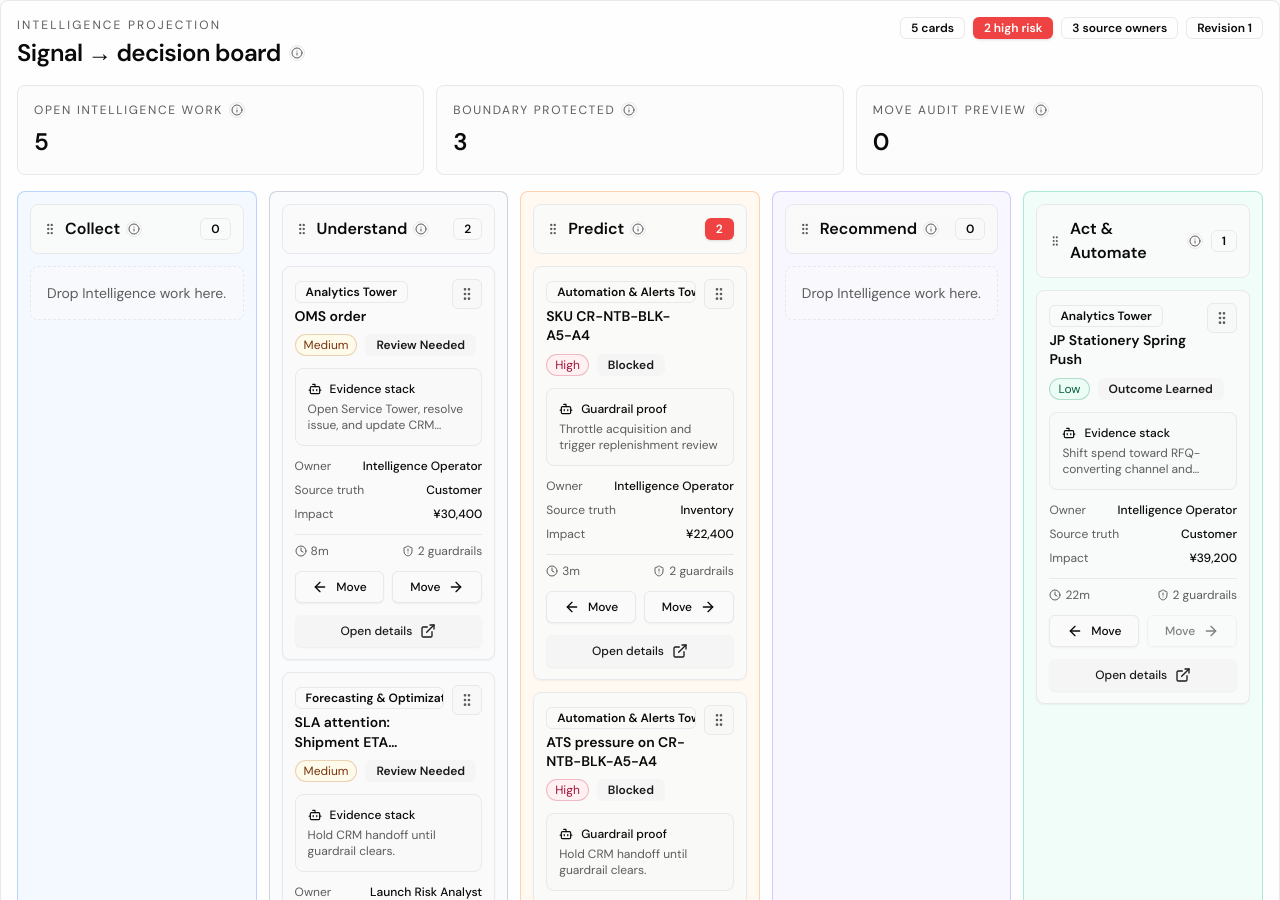
IntelligenceDragBoard › opens a detail sheet with evidence, source owner, and impact context
Click the button "Open details" below "8m": (388, 631) [295,615,482,647]
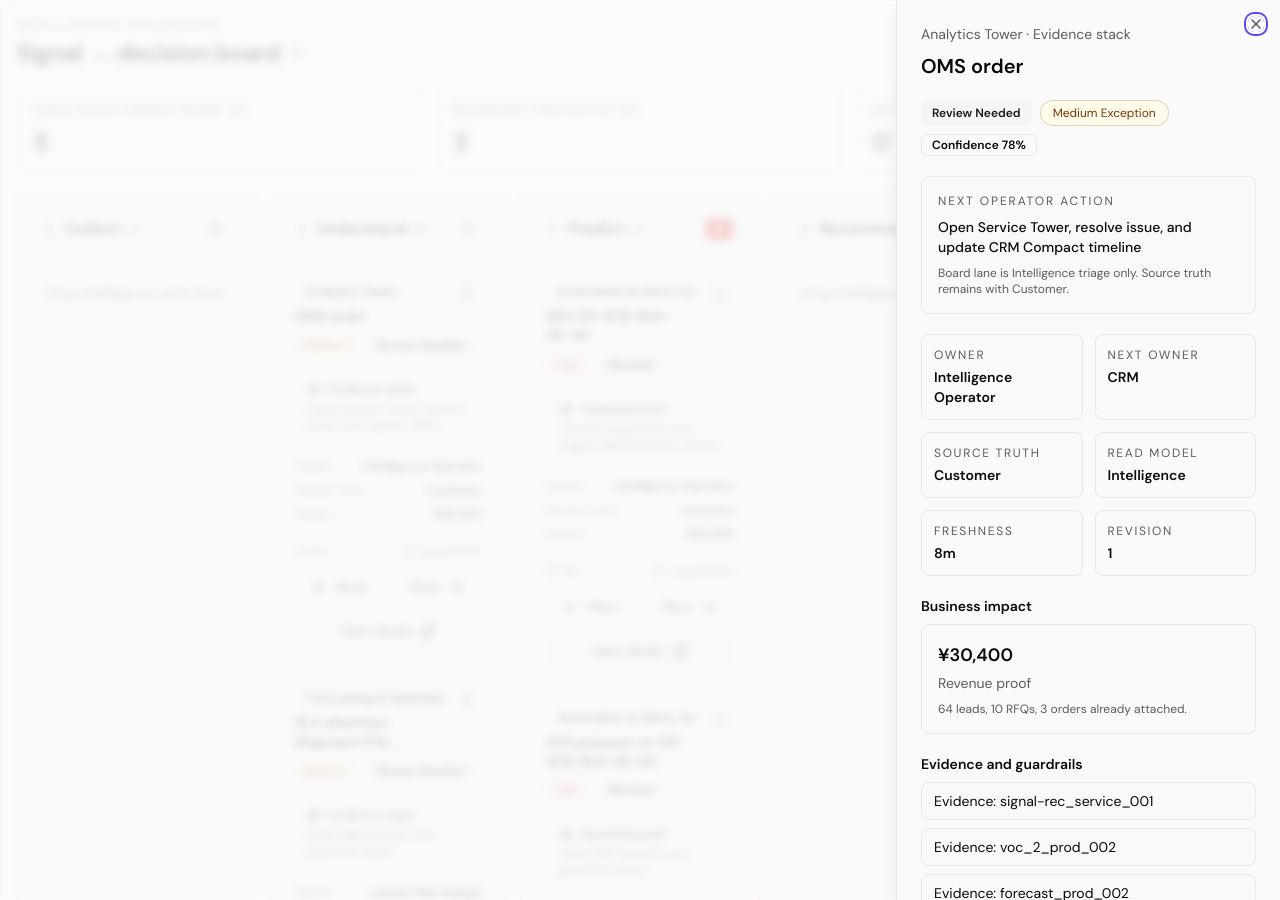
expect the element with test id "intelligence-board-detail" is shown: met, box [921,24,1256,899]
expect the heading "Business impact" is shown: met, box [921,597,1032,615]
expect the heading "Evidence and guardrails" is shown: met, box [921,755,1083,773]
